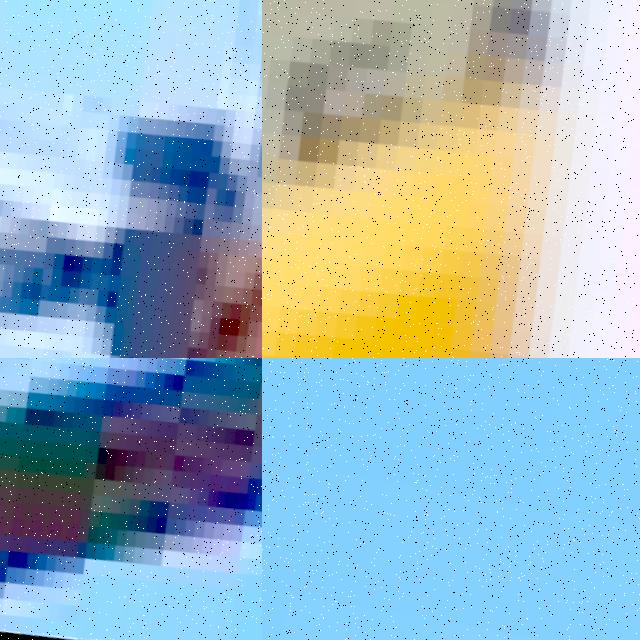drone: (262, 0, 640, 358), (0, 0, 262, 358), (0, 358, 262, 640)
